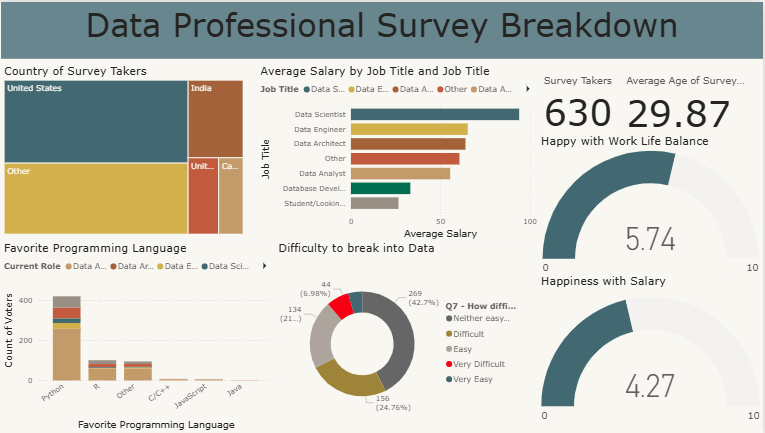

This screenshot's page, from the dashboard's own definition file:
{"tool":"powerbi","page":{"name":"Page 1","canvas":[1280,720],"ordinal":0},"visuals":[{"type":"textbox","box":[9.4,0,1269.9,94.5],"z":0},{"type":"cardVisual","fields":{"Data":["Count(Data Professional Survey.Unique ID)"]},"box":[897,102,150,120],"z":1000},{"type":"cardVisual","fields":{"Data":["Avg(Data Professional Survey.Q10 - Current Age)"]},"box":[1035.6,94.5,243.8,151.2],"z":2000},{"type":"barChart","fields":{"Category":["Data Professional Survey.Q1 - Which Title Best Fits your Current Role?.1"],"Y":["Avg(Data Professional Survey.Average Salary)"],"Series":["Data Professional Survey.Q1 - Which Title Best Fits your Current Role?.1"]},"box":[438.4,102,470.6,296.7],"z":3000},{"type":"columnChart","title":"Favorite Programming Language","fields":{"Category":["Data Professional Survey.Q5 - Favorite Programming Language.1"],"Y":["CountNonNull(Data Professional Survey.Unique ID)"],"Series":["Data Professional Survey.Q1 - Which Title Best Fits your Current Role?.1"]},"box":[9.4,398.7,459.2,321.3],"z":4000},{"type":"treemap","title":"Country of Survey Takers","fields":{"Group":["Data Professional Survey.Q11 - Which Country do you live in?.1"],"Values":["CountNonNull(Data Professional Survey.Q11 - Which Country do you live in?.1)"]},"box":[9.4,102,408.2,289.1],"z":5000},{"type":"gauge","title":"Happy with Work Life Balance","fields":{"Y":["Avg(Data Professional Survey.Q6 - How Happy are you in your Current Position with the following? (Work/Life Balance))"],"MinValue":["Min(Data Professional Survey.Q6 - How Happy are you in your Current Position with the following? (Work/Life Balance))1"],"MaxValue":["Max(Data Professional Survey.Q6 - How Happy are you in your Current Position with the following? (Work/Life Balance))2"]},"box":[905.2,221.1,374.2,241.9],"z":6000},{"type":"gauge","title":"Happiness with Salary ","fields":{"Y":["Avg(Data Professional Survey.Q6 - How Happy are you in your Current Position with the following? (Salary))"],"MinValue":["Min(Data Professional Survey.Q6 - How Happy are you in your Current Position with the following? (Salary))"],"MaxValue":["Max(Data Professional Survey.Q6 - How Happy are you in your Current Position with the following? (Salary))"]},"box":[905.2,453.5,374.2,266.5],"z":7000},{"type":"donutChart","title":"Difficulty to break into Data","fields":{"Y":["CountNonNull(Data Professional Survey.Q7 - How difficult was it for you to break into Data?)"],"Series":["Data Professional Survey.Q7 - How difficult was it for you to break into Data?"],"Category":["Data Professional Survey.Q7 - How difficult was it for you to break into Data?"]},"box":[468.7,398.7,408.2,321.3],"z":7001}]}

Visuals, with their boxes in screenshot pixels (x1, y1, x2, y2), scaled from the page's 1280x720 canvas onto the 765x433 screenshot:
textbox: 6 0 764 57
cardVisual - Count(Data Professional Survey.Unique ID): 536 61 626 134
cardVisual - Avg(Data Professional Survey.Q10 - Current Age): 619 57 764 148
barChart - Data Professional Survey.Q1 - Which Title Best Fits your Current Role?.1 x Avg(Data Professional Survey.Average Salary): 262 61 543 240
"Favorite Programming Language" columnChart: 6 240 280 432
"Country of Survey Takers" treemap: 6 61 250 235
"Happy with Work Life Balance" gauge: 541 133 764 278
"Happiness with Salary " gauge: 541 273 764 432
"Difficulty to break into Data" donutChart: 280 240 524 432
